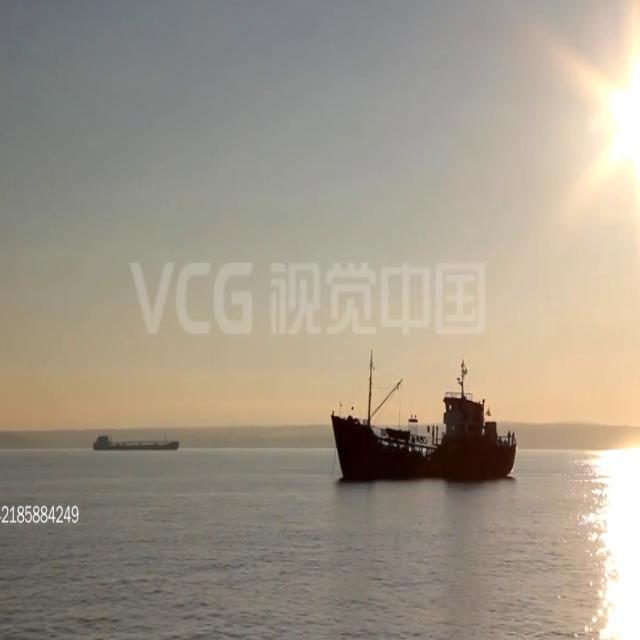fishing boat: (330, 350, 516, 481), (92, 430, 182, 454)
